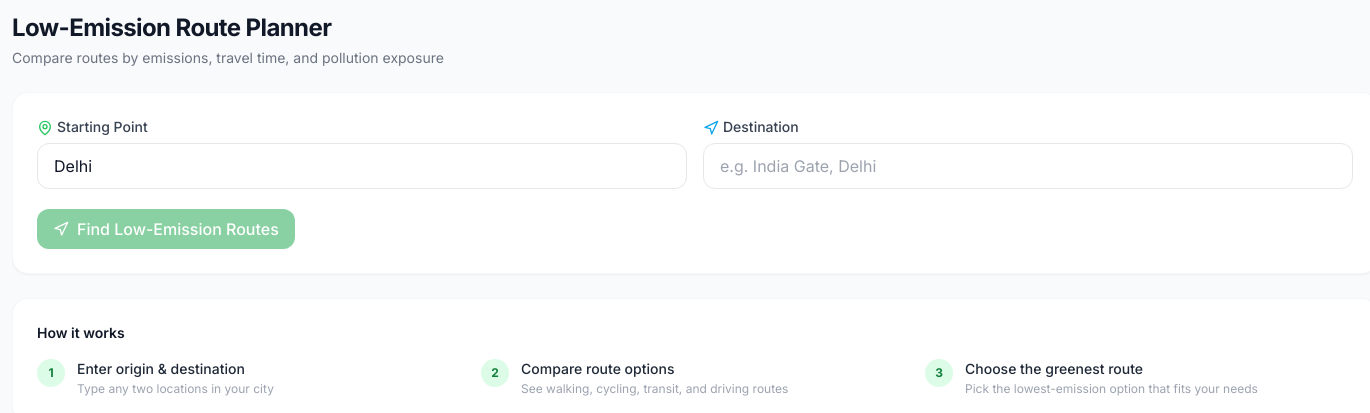
Test case: RoutePlanner › submit button enabled when destination filled
In the field labelled "Destination": (1028, 166) [703, 143, 1353, 189], type "India Gate"
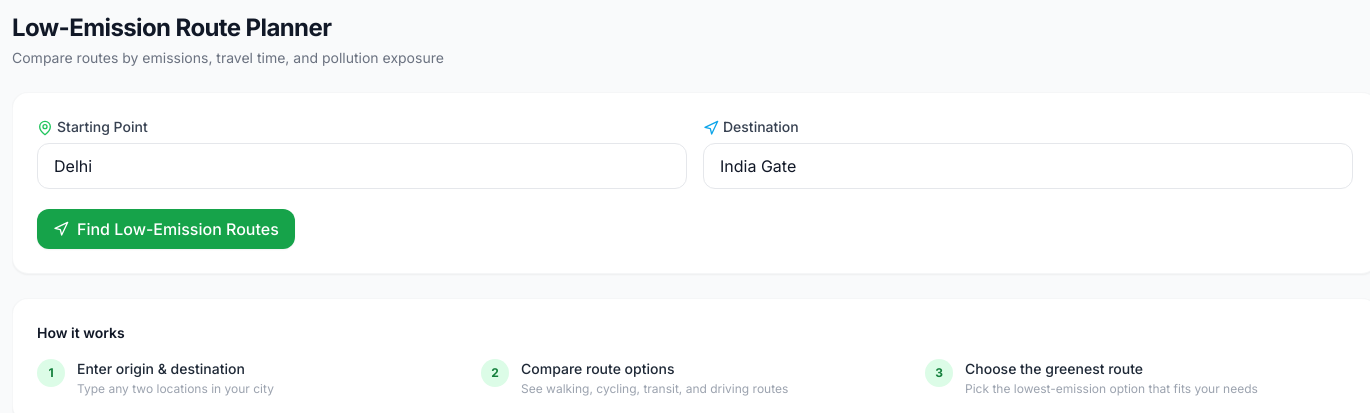
Check: the button "Find Low-Emission Routes" is enabled, box [37, 209, 295, 249]
